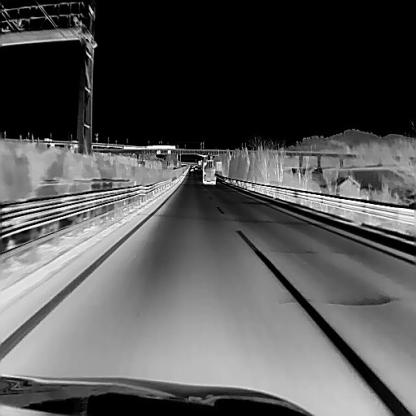truck: (201, 160, 216, 184)
